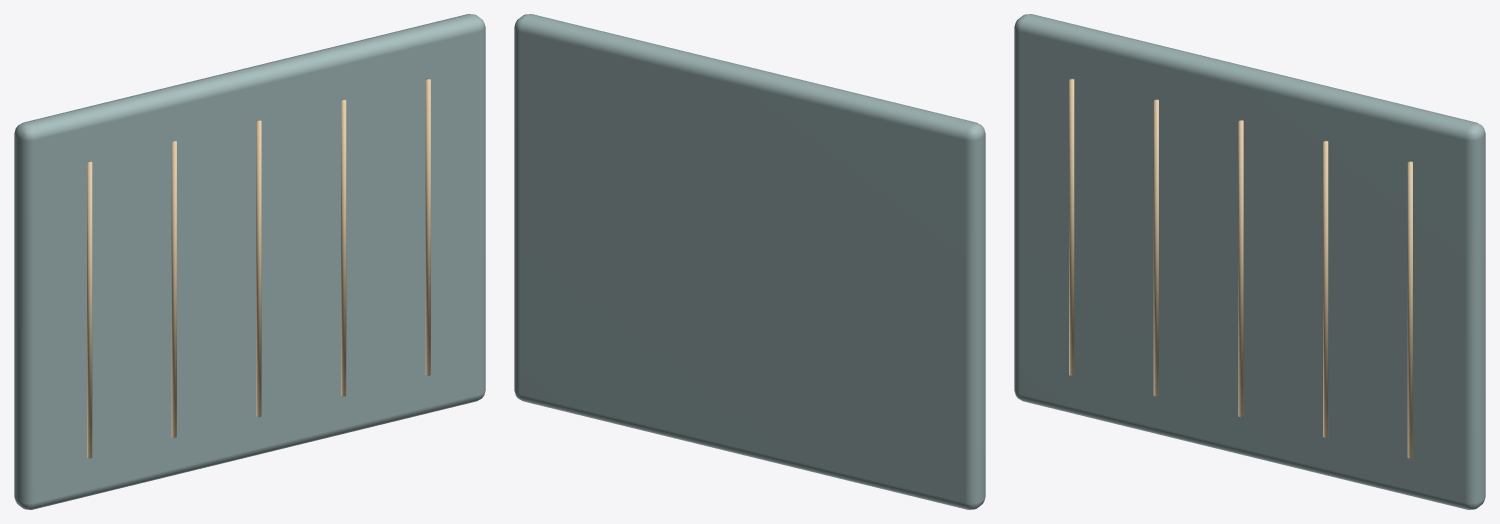
File: atelier-headboard.glb
The picture shows the model from 3 angles, left to right: view 1: azimuth 30°, elevation 25°; view 2: azimuth 150°, elevation 25°; view 3: azimuth 330°, elevation 25°; orthographic projection.
Visible parts, largest first — view 1: fabric.041, accent.010; view 2: fabric.041; view 3: fabric.041, accent.010.
Boxes of the visible parts, x1,y1,x2,y2 form: fabric.041: (14, 14, 485, 509); accent.010: (87, 78, 430, 458); fabric.041: (514, 14, 985, 509); fabric.041: (1014, 14, 1485, 509); accent.010: (1069, 78, 1412, 458).
Size of the model in its own units: 1.65 by 1.3 by 0.108.
